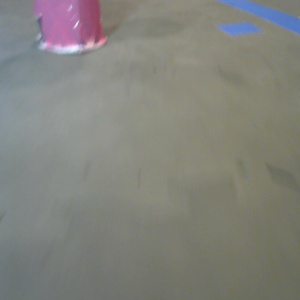middle: (33, 1, 108, 54)
